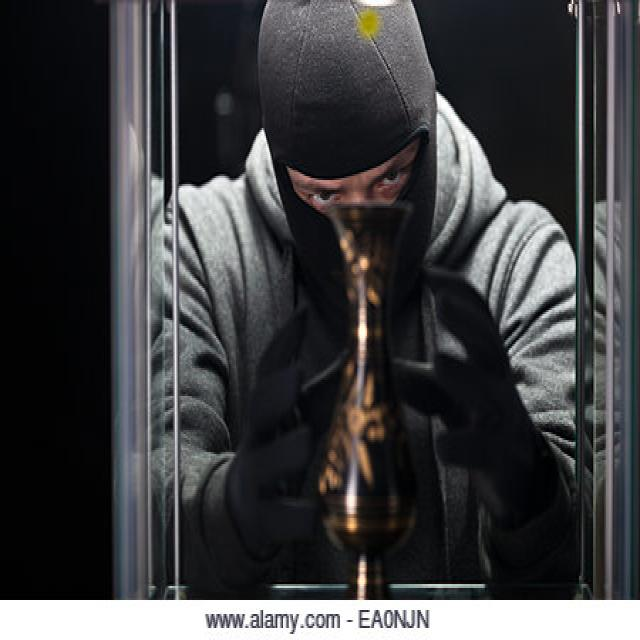6_pasamontana: (259, 0, 438, 312)
